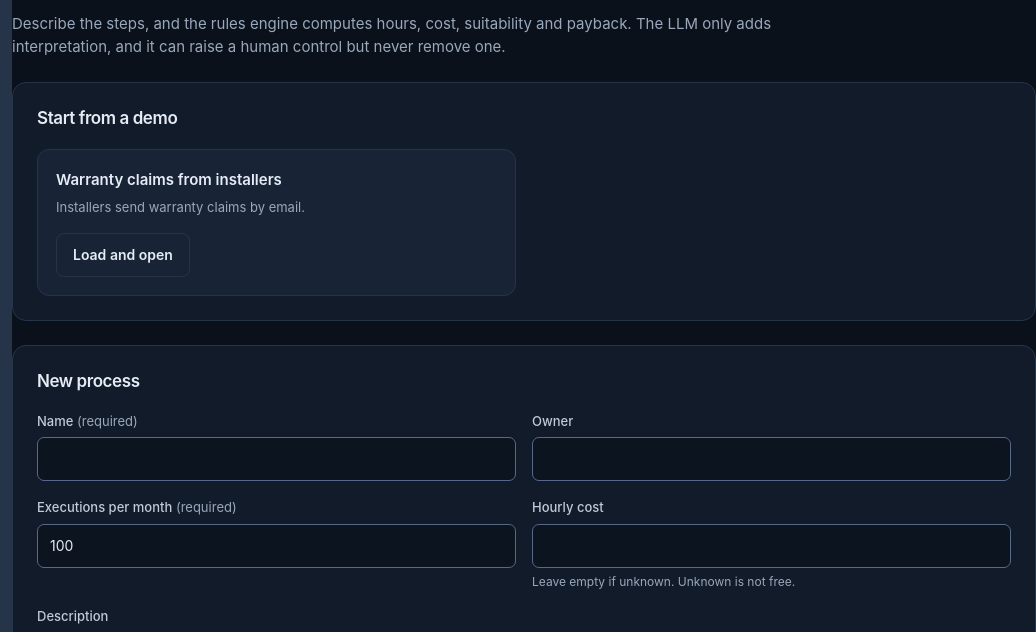
Scenario: RS-73.1: loading a demo › adds it to the list and opens it
Click the button "Load and open".
click(123, 255)  # box [56, 233, 190, 277]
(page scrolled)
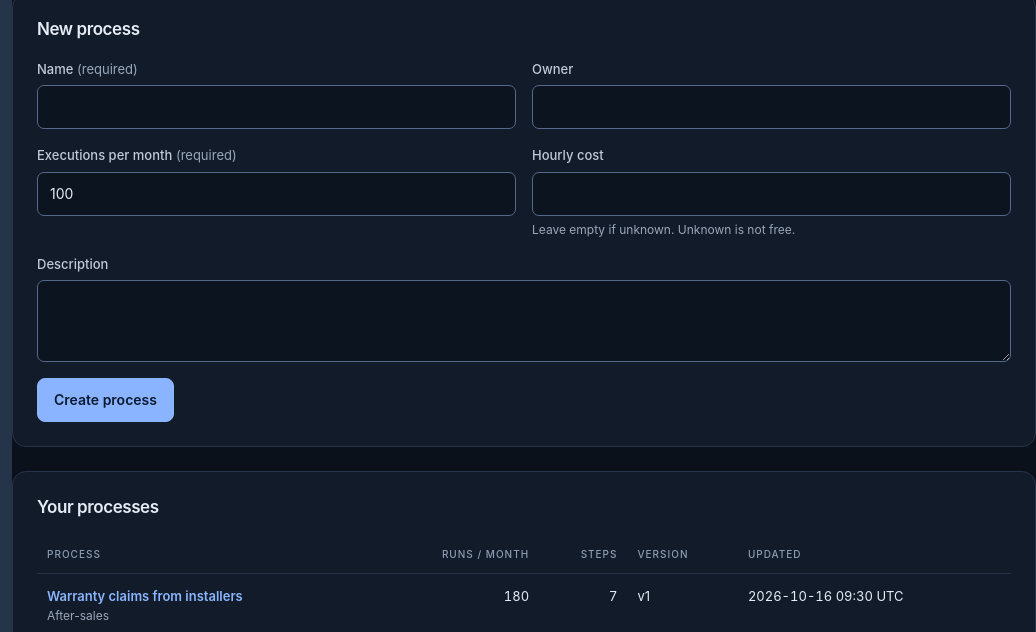
Check: the link "Warranty claims from installers" is shown, box [47, 588, 243, 604]
